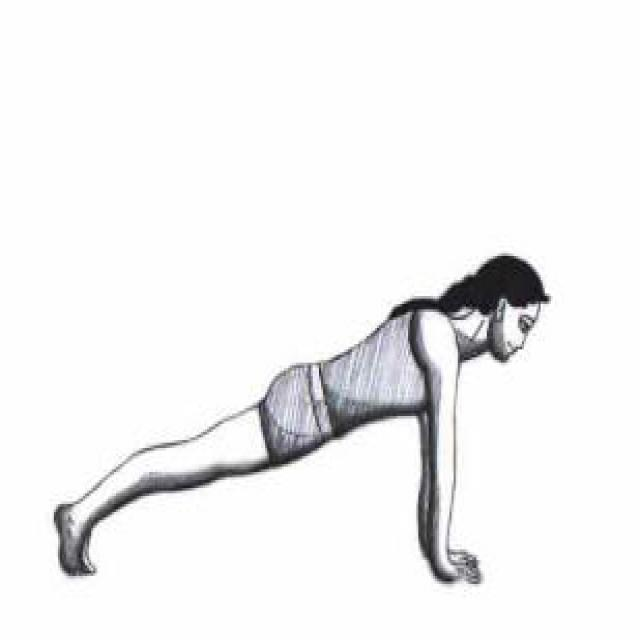yoga-pose plank: (45, 254, 549, 602)
